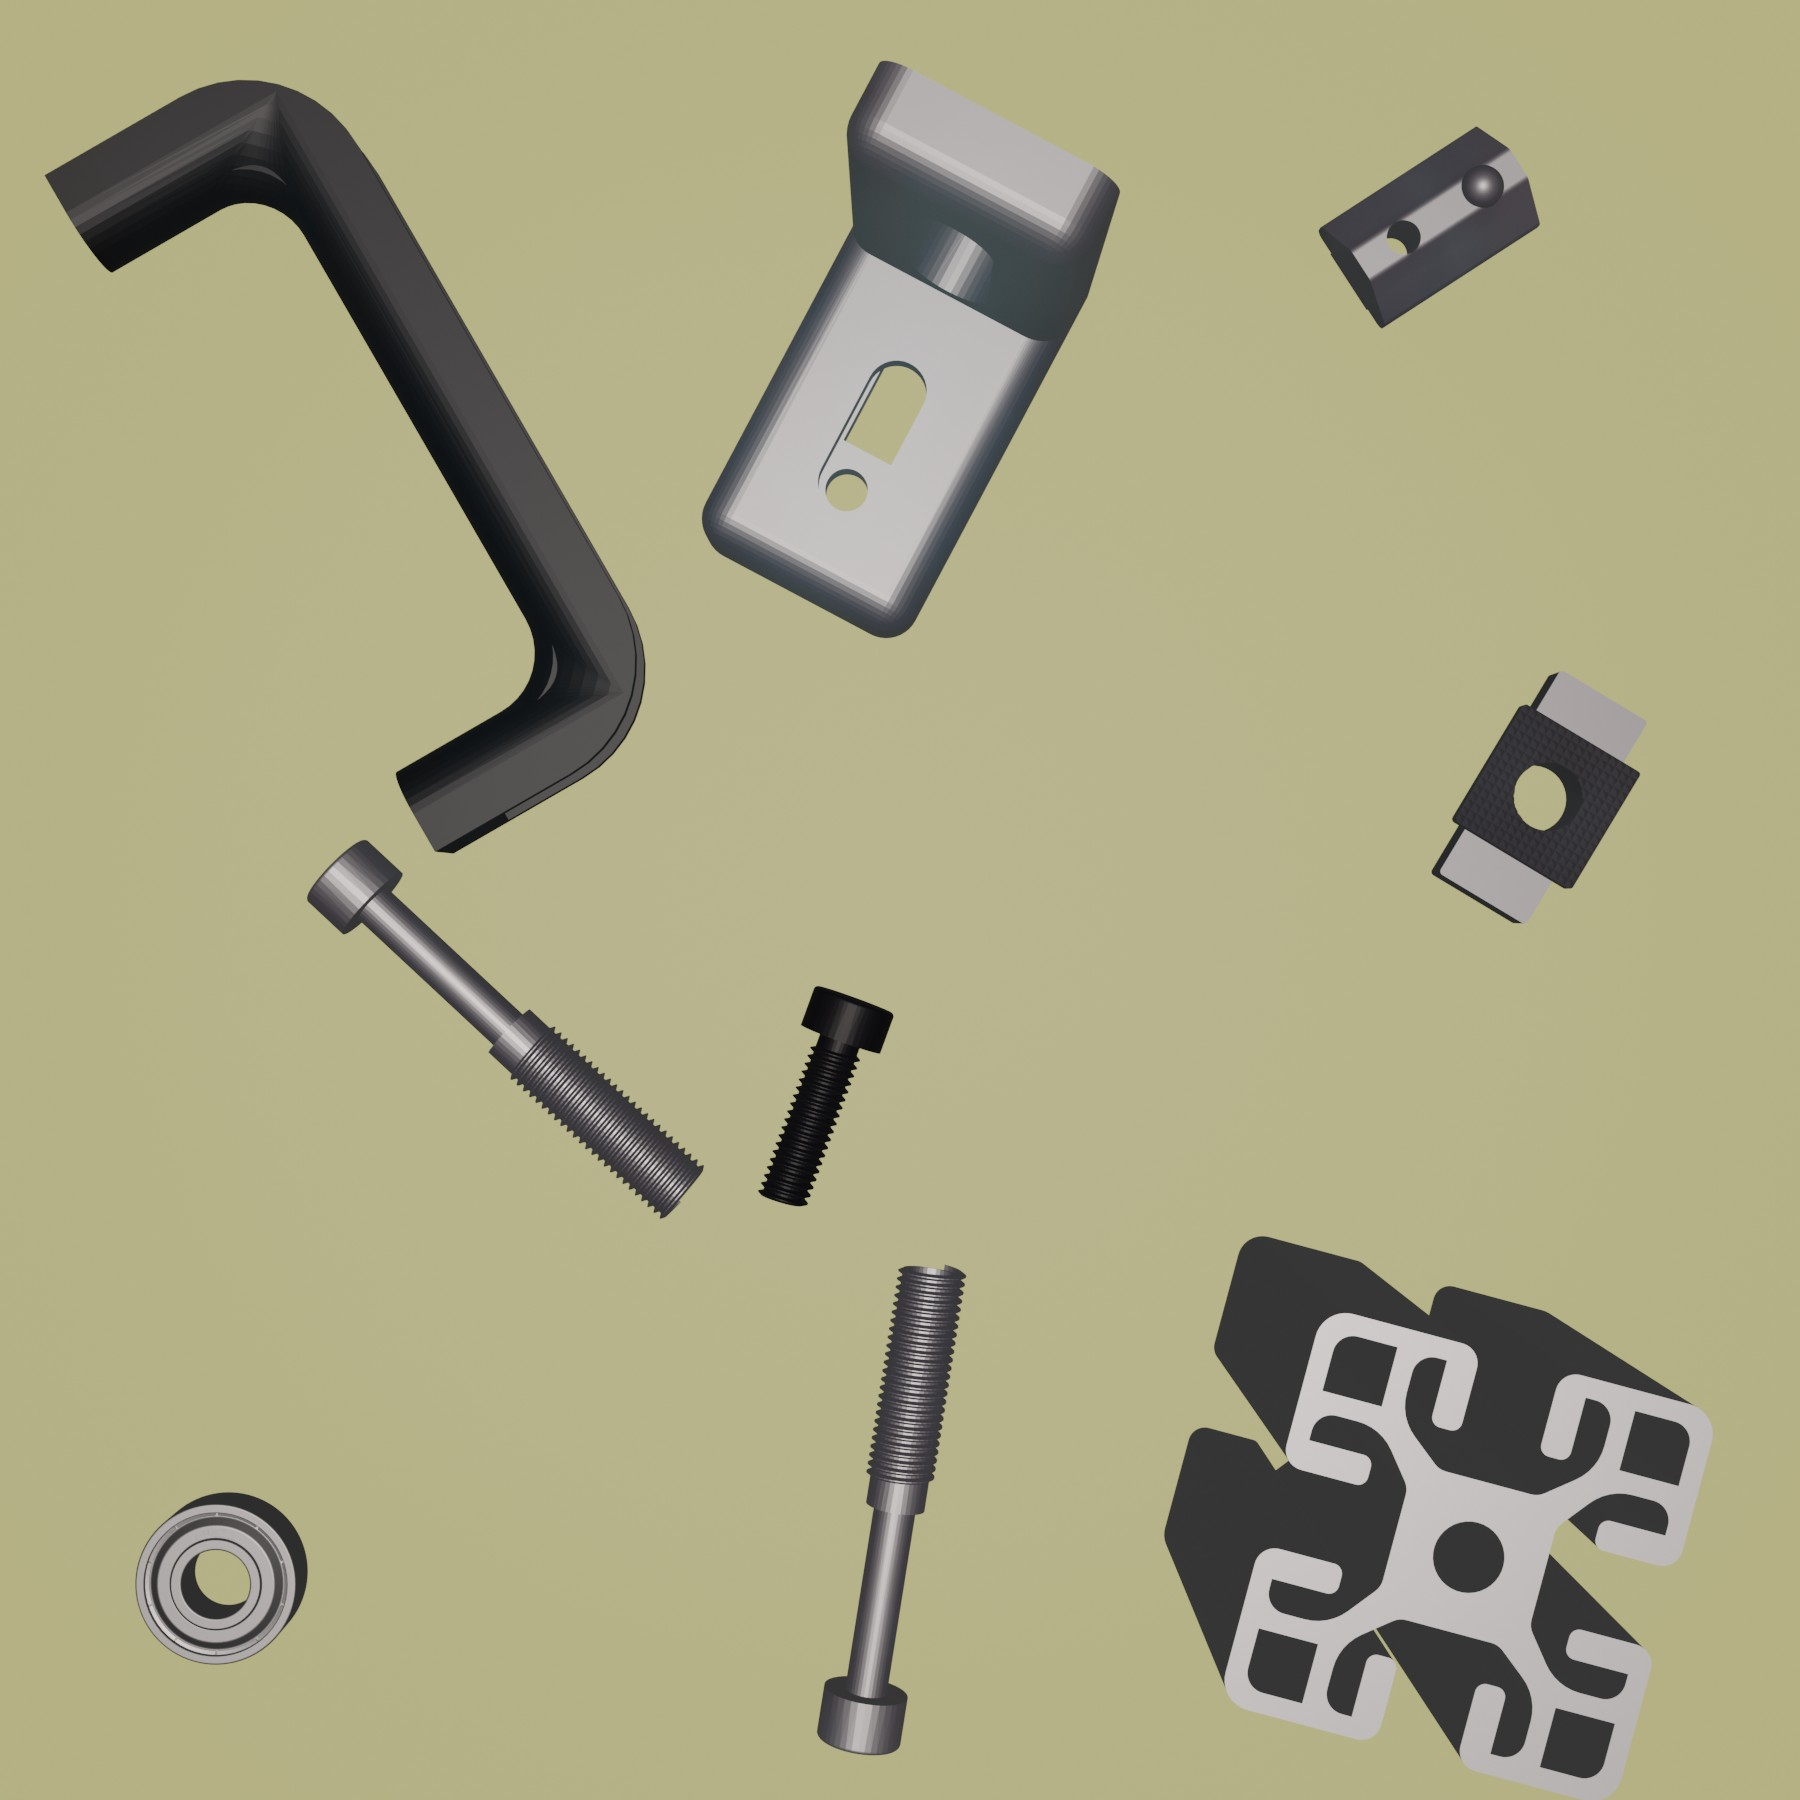Aluminium Extension: (1160, 1235, 1713, 1800)
Ball Bearing: (130, 1488, 312, 1668)
Multiwinkel: (701, 58, 1124, 641)
Pull Handle: (43, 76, 648, 855)
Shoulder Socket Head Cap Screw: (303, 836, 705, 1221), (814, 1259, 971, 1759)
Socket Head Cap Screw: (753, 981, 897, 1212)
T Nut Square: (1427, 668, 1652, 930)
T Spring Nut: (1317, 124, 1541, 331)
